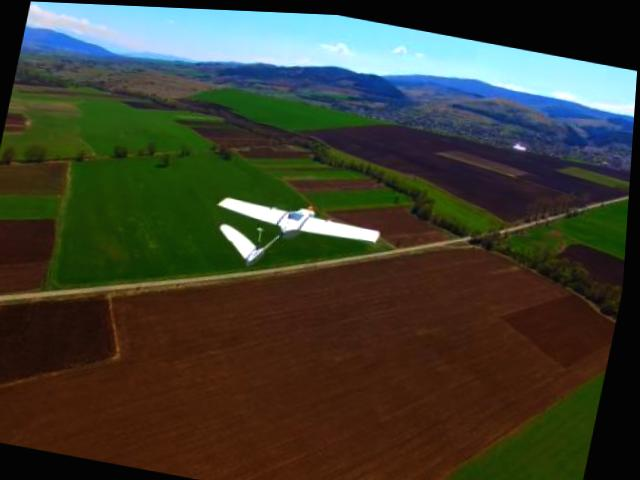uav: (202, 177, 397, 297)
